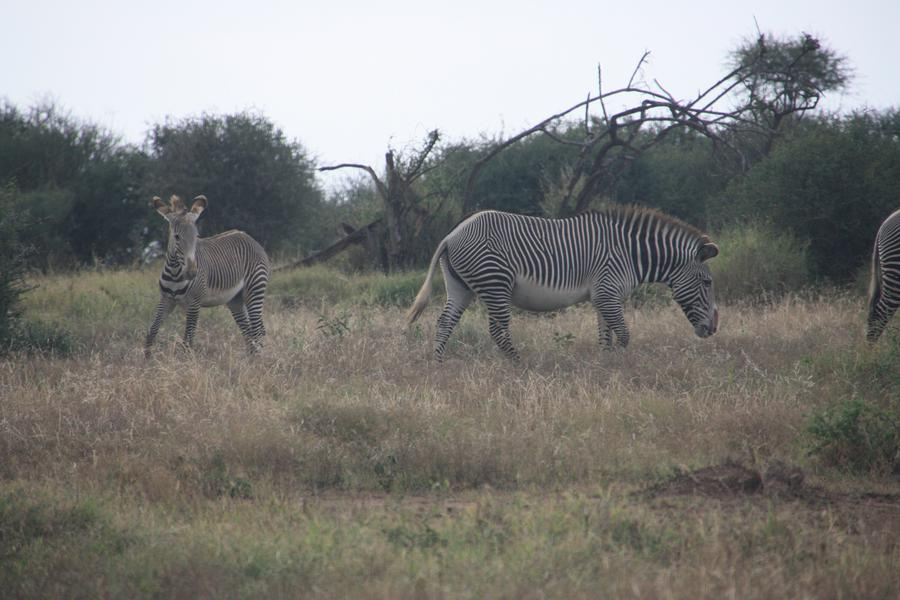zebra_grevys: (426, 200, 632, 300)
